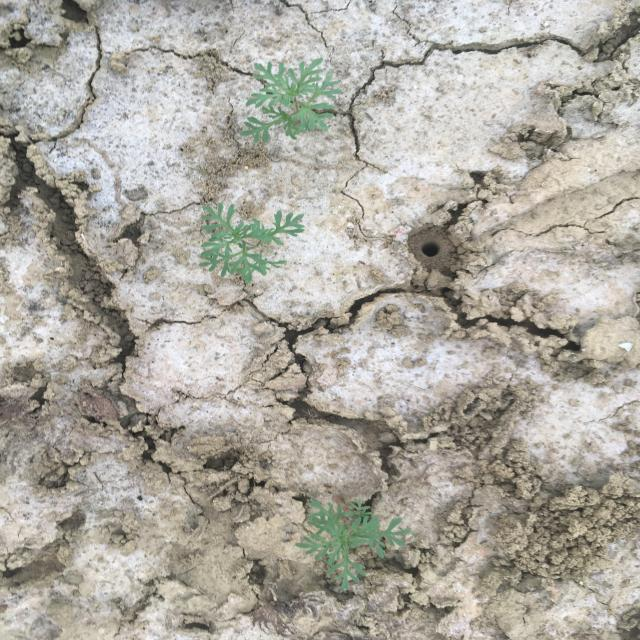Ragweed: (290, 496, 415, 594), (233, 55, 346, 146), (197, 200, 307, 287)
